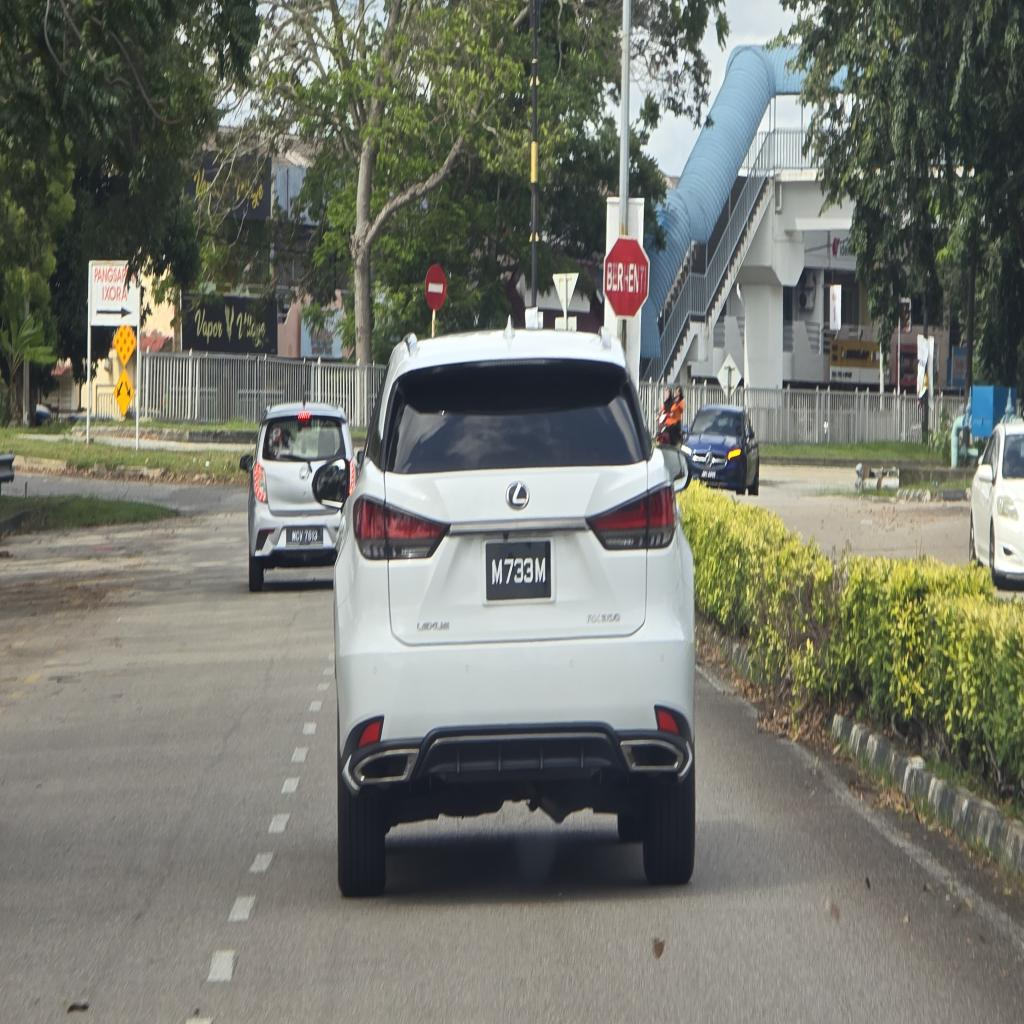car: (315, 322, 695, 895)
car plate: (486, 542, 550, 600)
